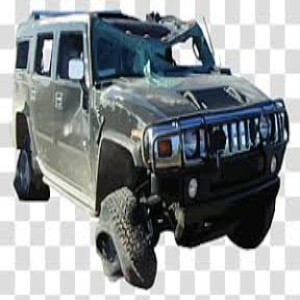bumper: (147, 201, 202, 253)
front_windshield_glass: (100, 28, 204, 72)
